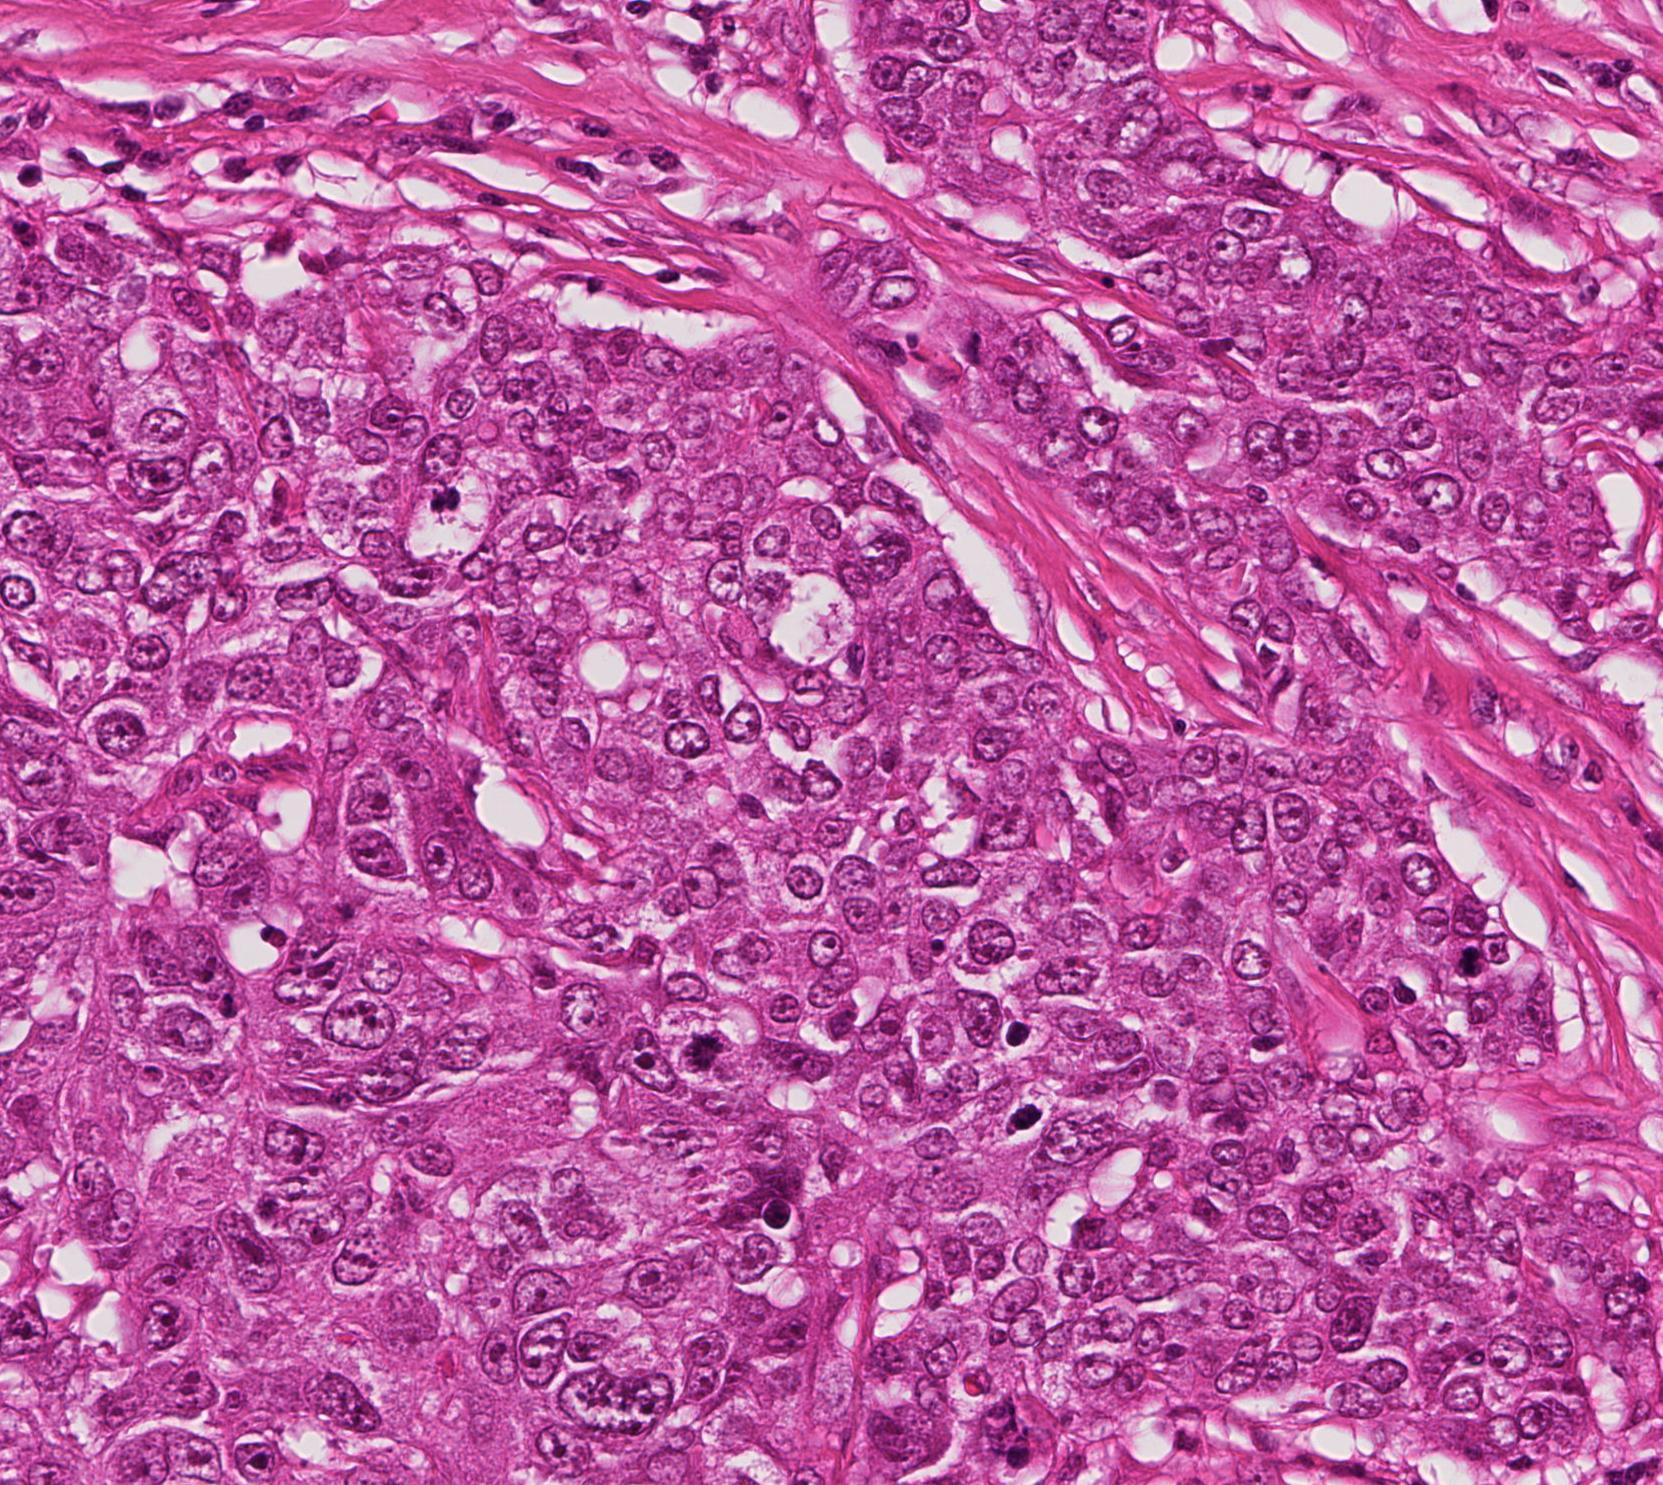mitosis: (681, 1018, 741, 1076)
